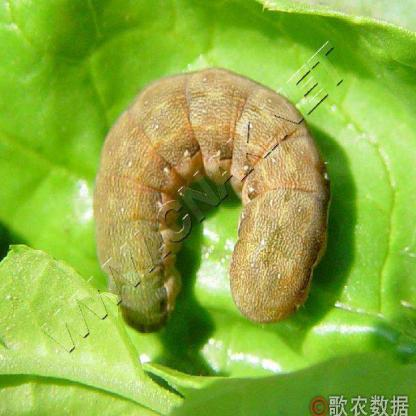armyworm: (85, 62, 333, 343)
